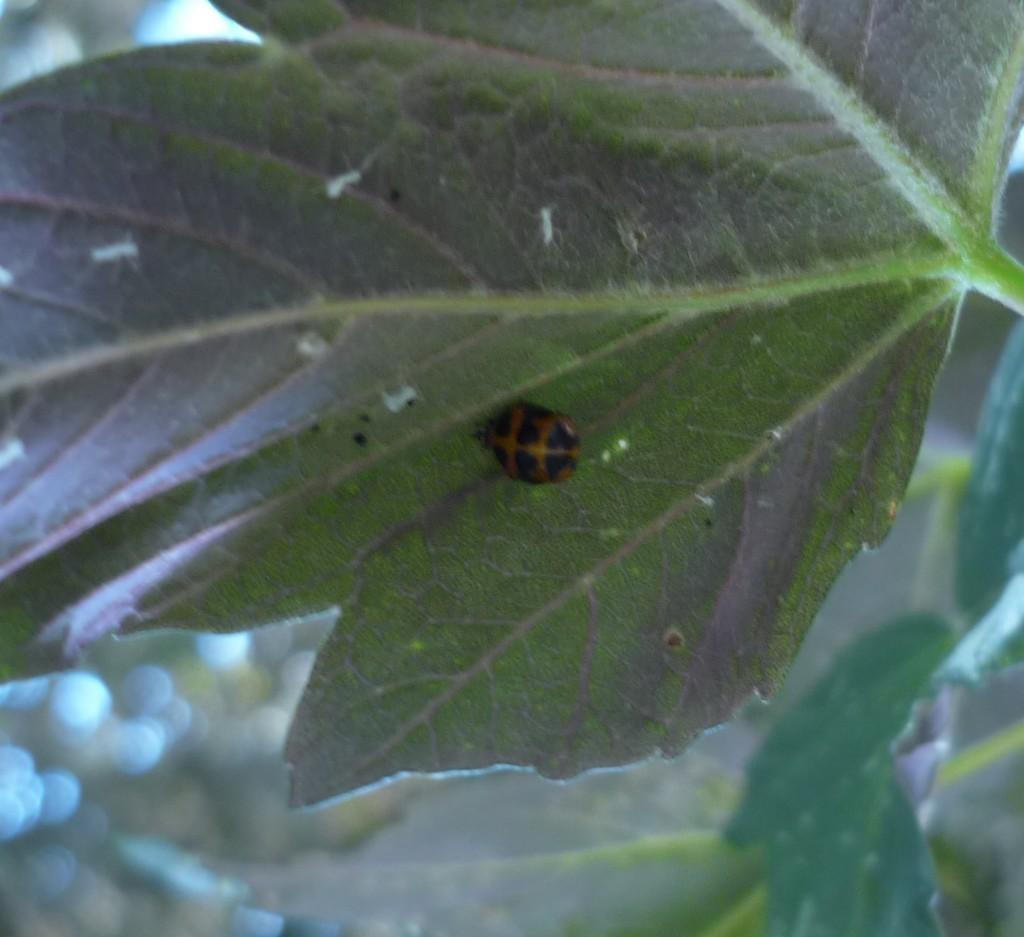ladybug: (466, 398, 587, 486)
